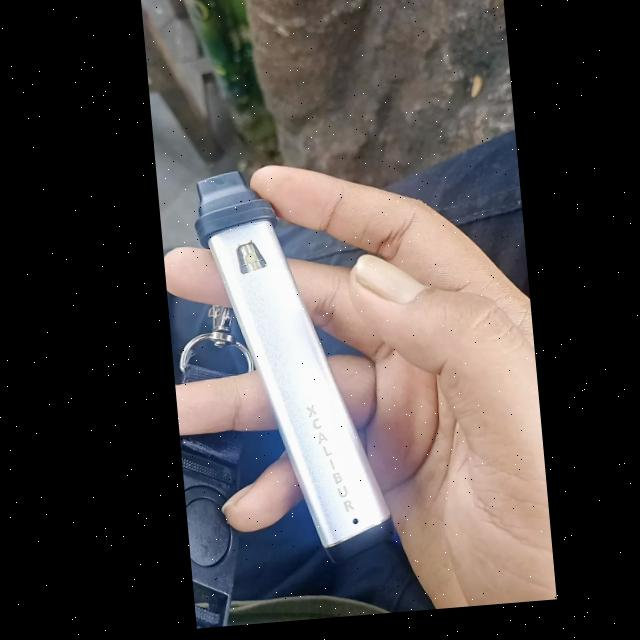vape: (186, 167, 384, 576)
